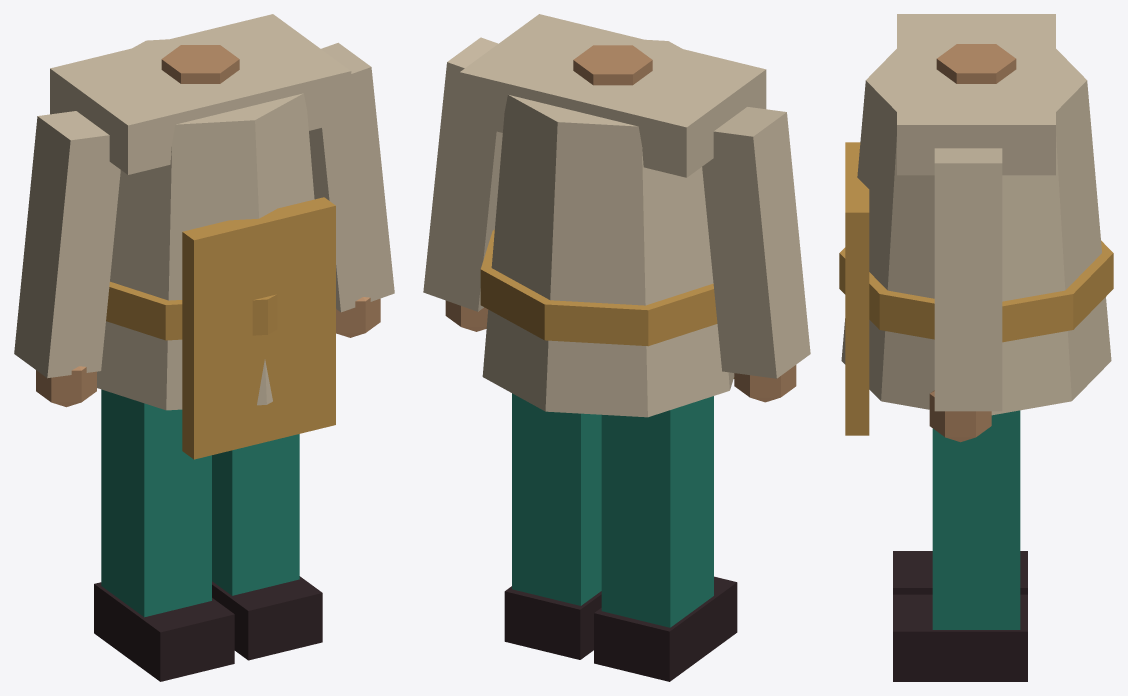
Rendered from figure.gltf.
The picture shows the model from 3 angles, left to right: view 1: azimuth 30°, elevation 25°; view 2: azimuth 150°, elevation 25°; view 3: azimuth 270°, elevation 25°; orthographic projection.
Parts seen in each view (by area): view 1: arms, apron, legs, coat, shoulders, boots, belt, hands, neck; view 2: coat, legs, arms, shoulders, boots, belt, neck, hands; view 3: coat, shoulders, arms, legs, boots, belt, apron, neck, hands.
Boxes of the visible parts, x1,y1,x2,y2 form: arms: (14,42,394,378); apron: (182,197,335,459); legs: (101,389,299,617); coat: (97,39,314,410); shoulders: (50,14,351,174); boots: (94,576,322,681); belt: (106,281,277,340); hands: (36,297,380,407); neck: (161,45,239,83); coat: (482,39,734,417); legs: (512,393,713,627); arms: (423,37,810,378); shoulders: (460,14,766,177); boots: (504,576,737,681); belt: (480,229,717,346); neck: (573,45,652,85); hands: (445,300,796,402); coat: (841,49,1111,415); shoulders: (897,14,1055,175); arms: (934,148,1002,411); legs: (932,410,1020,629); boots: (893,551,1027,681); belt: (839,240,1113,342); apron: (845,142,869,435); neck: (936,44,1016,83); hands: (929,390,991,442).
Bounding box in the file's own units: 1.03 × 1.62 × 0.69.
